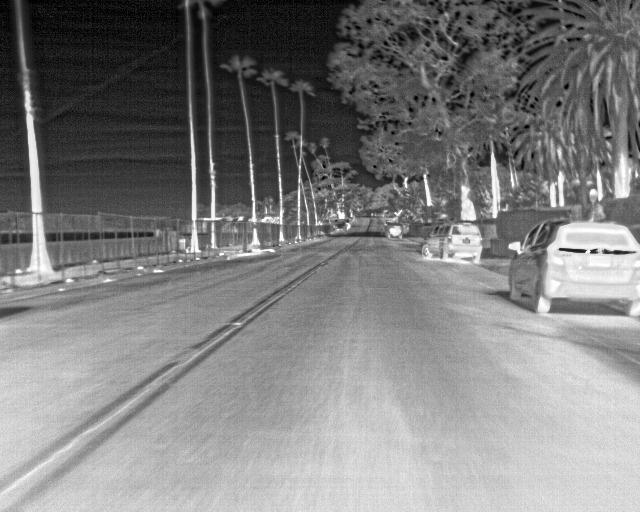car: (505, 221, 639, 313), (419, 219, 482, 265), (382, 221, 403, 239), (333, 220, 350, 235)
